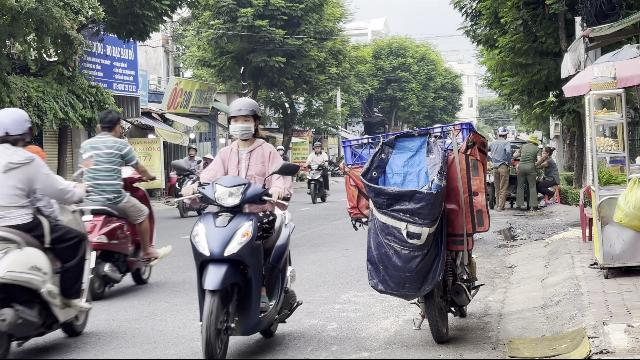helmet: (224, 96, 262, 140), (0, 106, 34, 148)
motorcyclist: (176, 96, 304, 356), (0, 105, 92, 357), (65, 108, 161, 300)
nohelmet: (96, 109, 124, 137)
